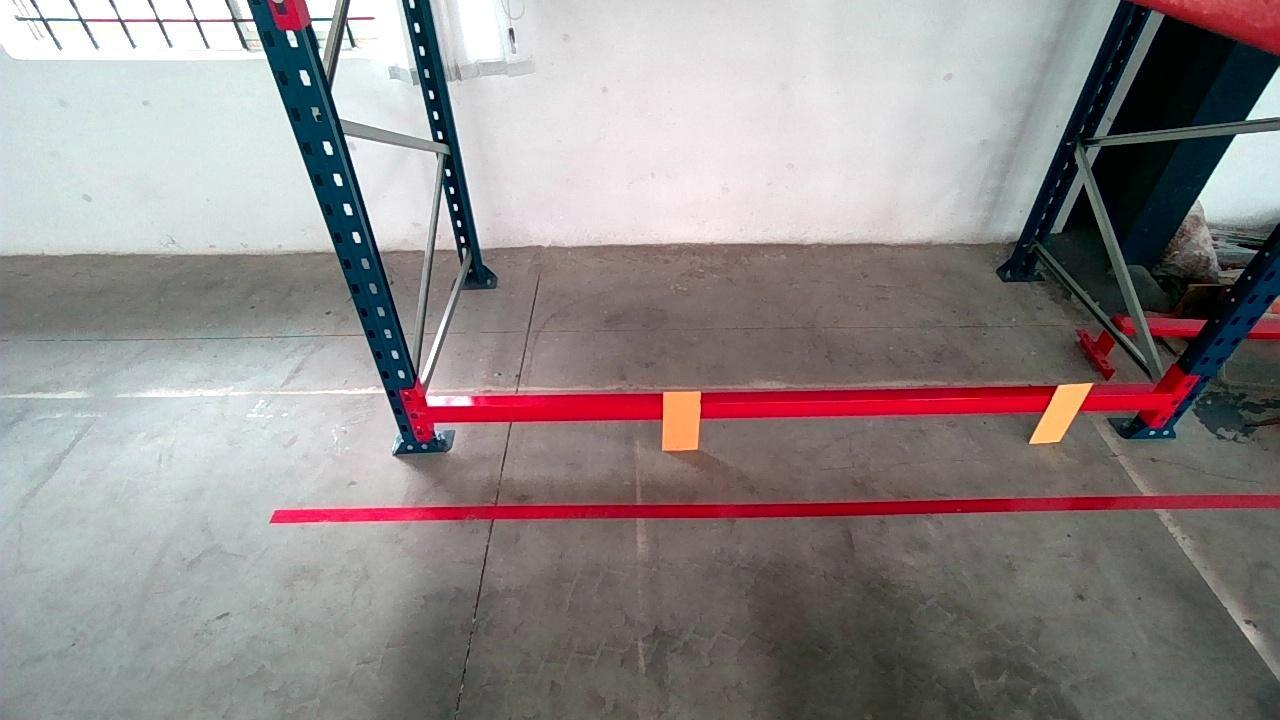h_rack: (430, 393, 1172, 423)
orange_strip: (1031, 382, 1095, 442), (663, 390, 701, 449)
red_line: (269, 493, 1280, 524)
